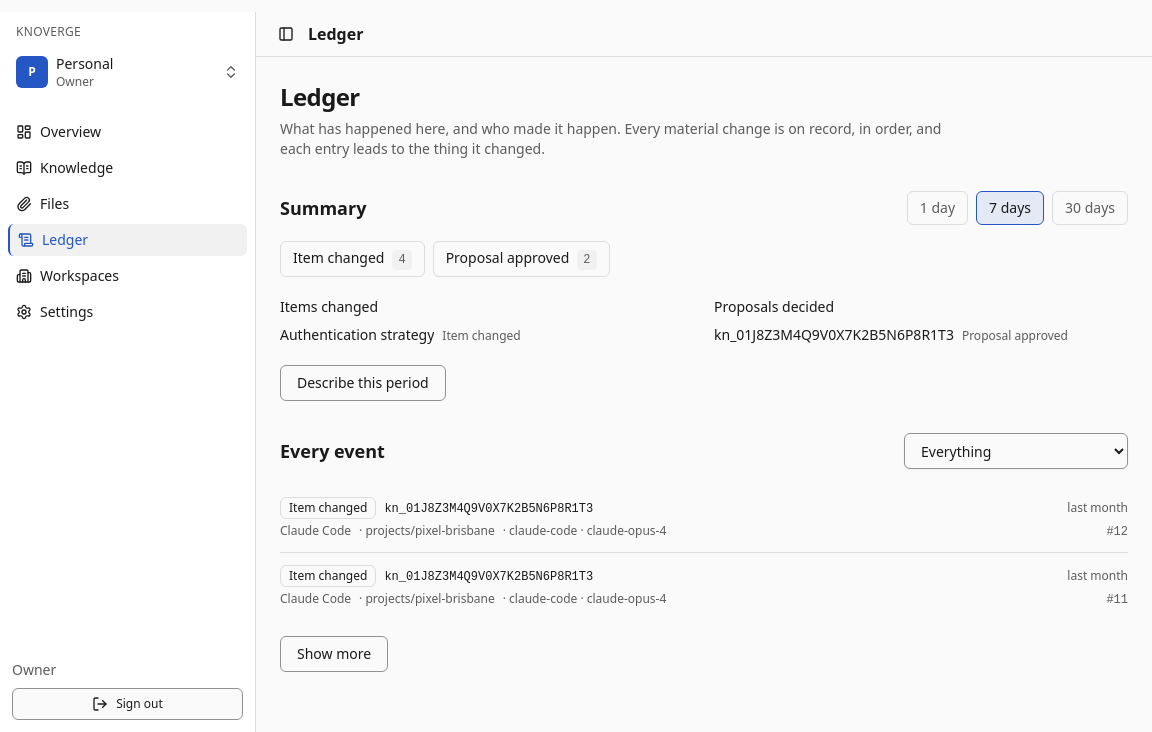
Scenario: the summary band › offers the prose as an extra, and says so when no model can write it
Click the button "Describe this period": (363, 383) [280,365,446,401]
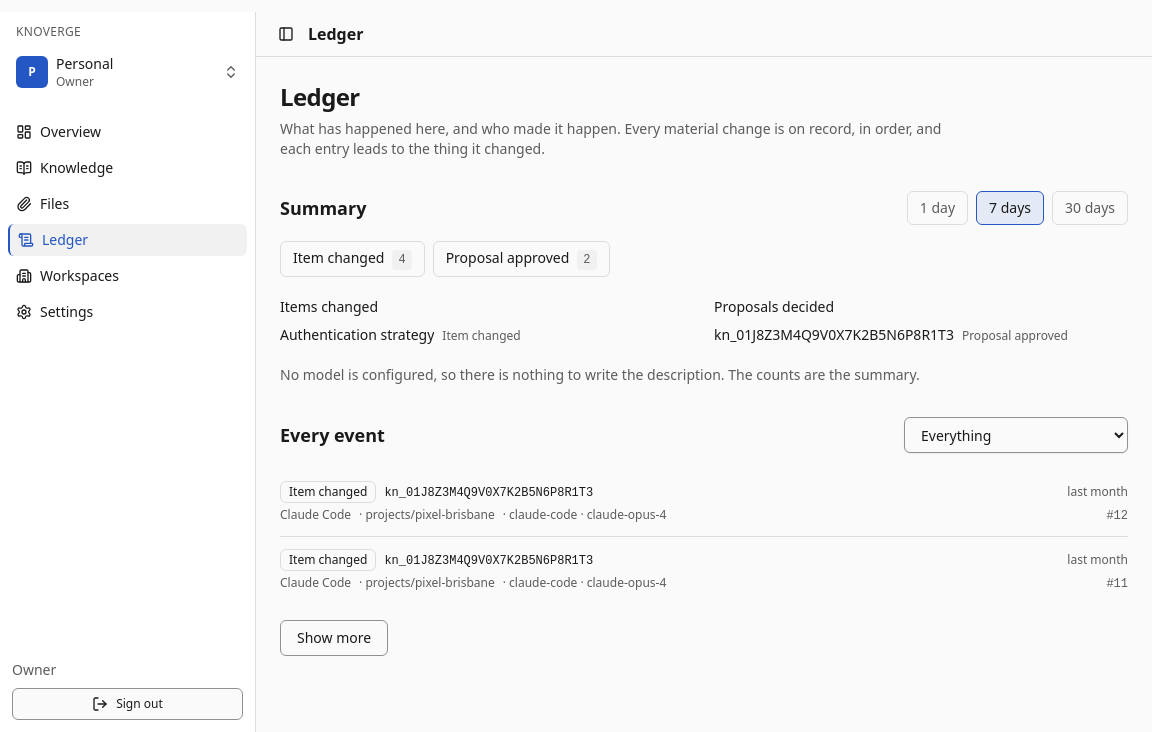
Check: the text "No model is configured, so there is nothing to write the description. The counts are the summary." is shown, box [280,365,920,384]
